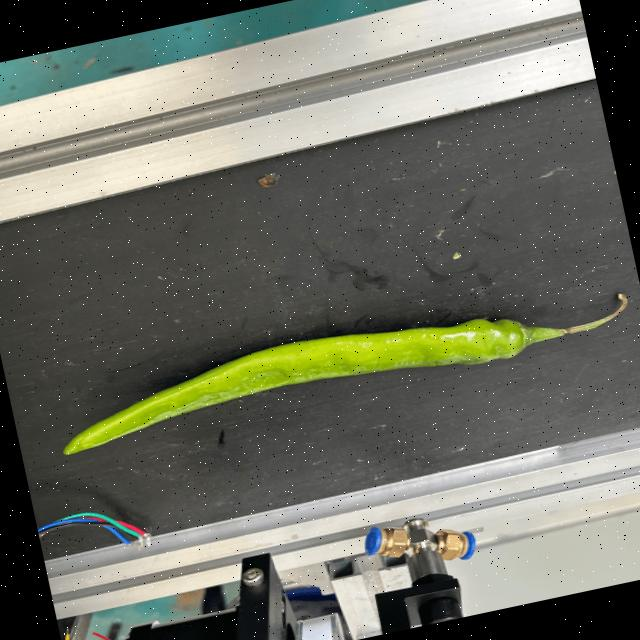chili: (60, 318, 535, 458)
